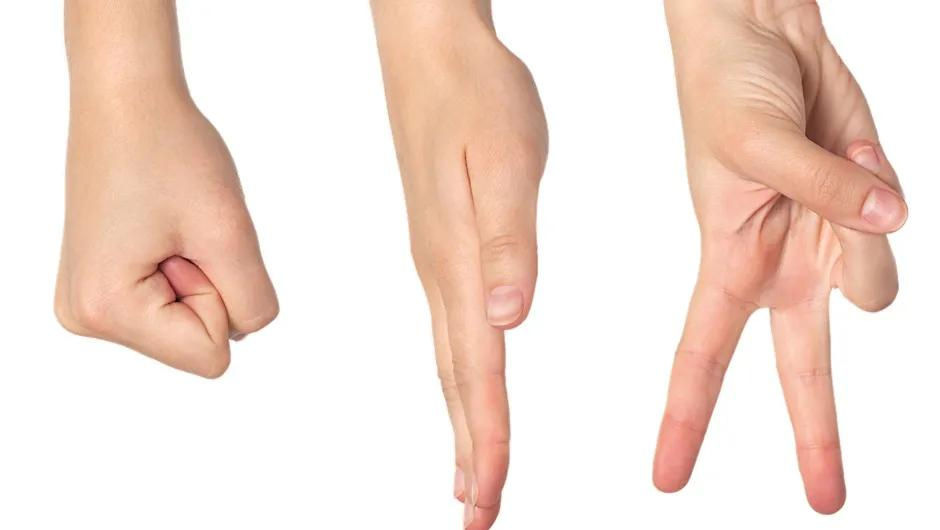paper: (348, 19, 606, 530)
rock: (38, 63, 312, 422)
scissors: (637, 18, 938, 529)
